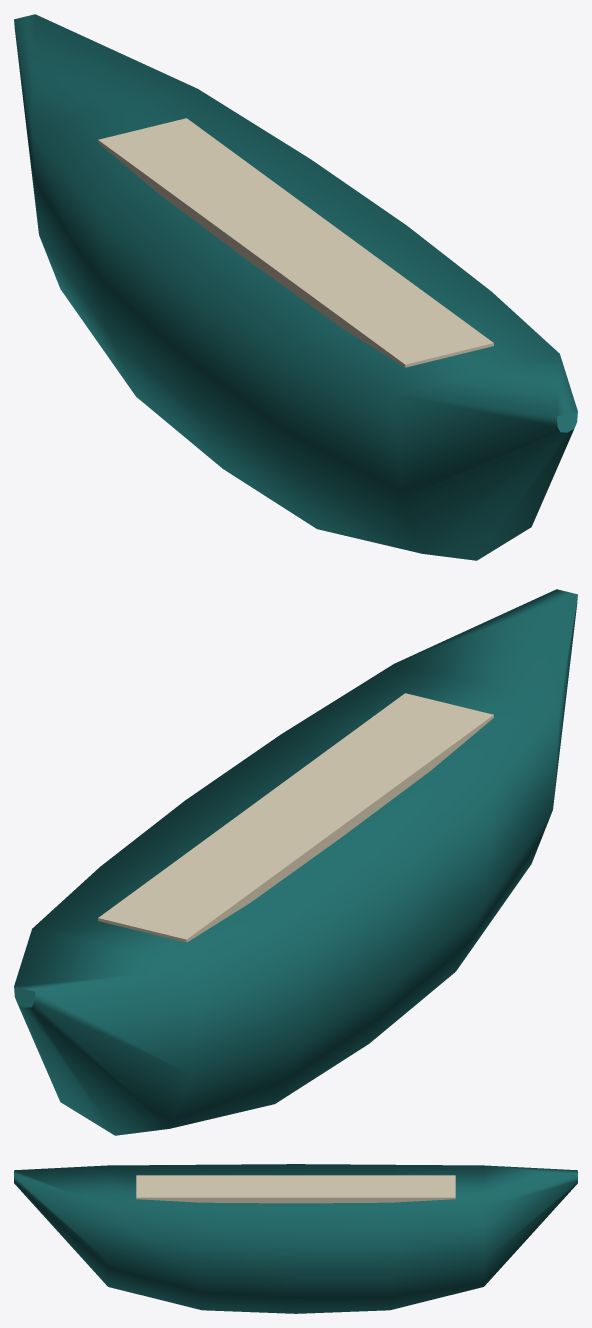
The model's file is k1_psu.obj.
3 views of the same model, one above another, from view 1: azimuth 30°, elevation 25°; view 2: azimuth 150°, elevation 25°; view 3: azimuth 270°, elevation 25° (orthographic). The views are drawn at different scales.
Parts seen in each view (by area): view 1: k1_psu; view 2: k1_psu; view 3: k1_psu.
Boxes of the visible parts, bbox=[...] form: k1_psu: bbox=[14, 14, 577, 560]; k1_psu: bbox=[14, 589, 577, 1135]; k1_psu: bbox=[14, 1164, 577, 1313].
Size of the model in its own units: 0.25 by 0.28 by 1.06.
